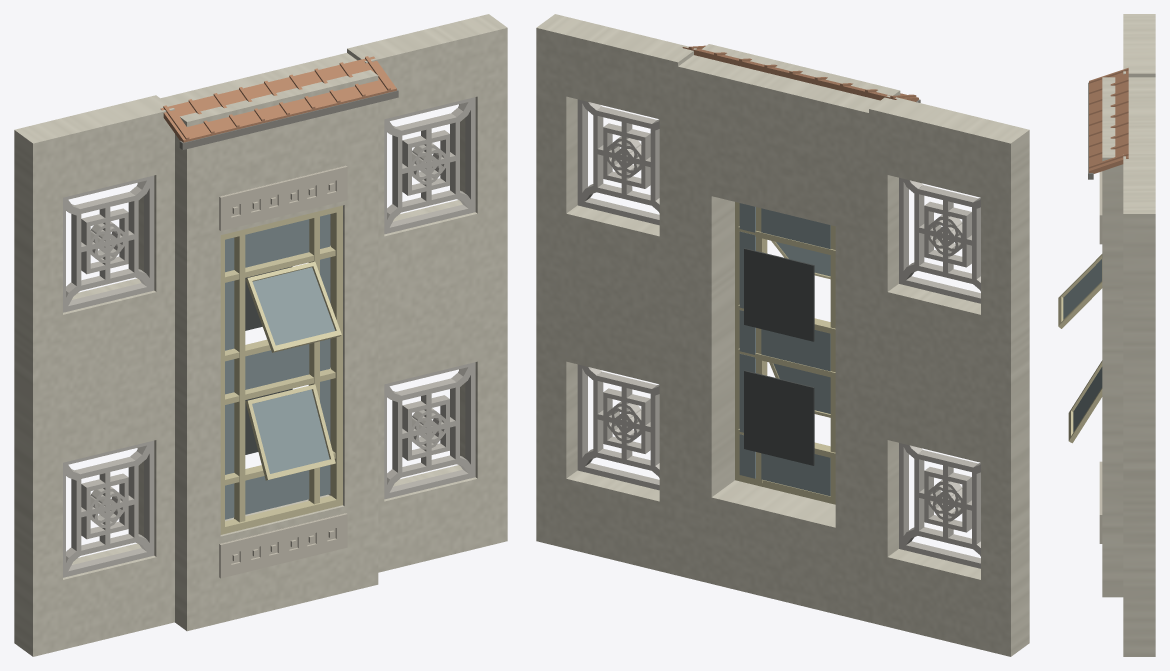
File: 347-high-window-far.glb
3 renders of one model, left to right at view 1: azimuth 30°, elevation 25°; view 2: azimuth 150°, elevation 25°; view 3: azimuth 270°, elevation 25°, orthographic. The views are drawn at different scales.
Visible parts, largest first — view 1: 同济新村347号高窗与方形花格; view 2: 同济新村347号高窗与方形花格; view 3: 同济新村347号高窗与方形花格.
Part boxes in pixels (box(x1,y1,x2,y2)): 同济新村347号高窗与方形花格: box(14, 14, 507, 656); 同济新村347号高窗与方形花格: box(536, 14, 1029, 656); 同济新村347号高窗与方形花格: box(1058, 14, 1155, 656).
Size of the model in its own units: 3.56 by 3.7 by 0.7338.
8 materials, 1 textured.
